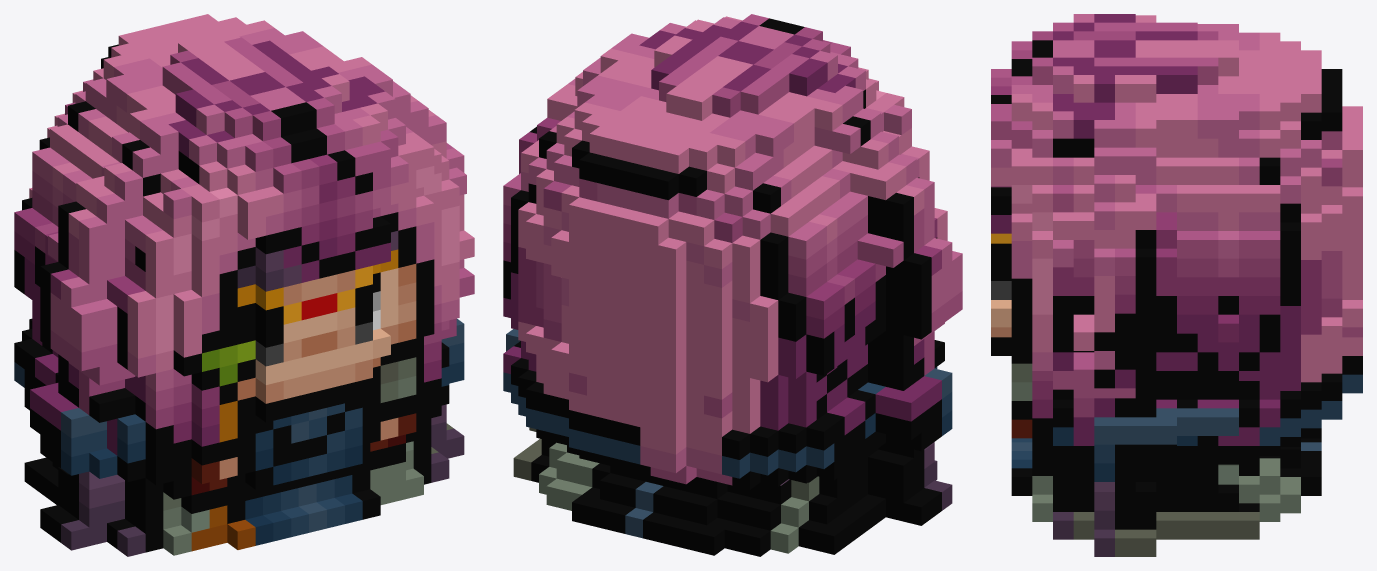
Rendered from Icon_008_03.obj.
The picture shows the model from 3 angles, left to right: view 1: azimuth 30°, elevation 25°; view 2: azimuth 150°, elevation 25°; view 3: azimuth 270°, elevation 25°; orthographic projection.
Bounding box in the file's own units: 2.2 × 2.2 × 1.8.
1 material, 1 textured.
